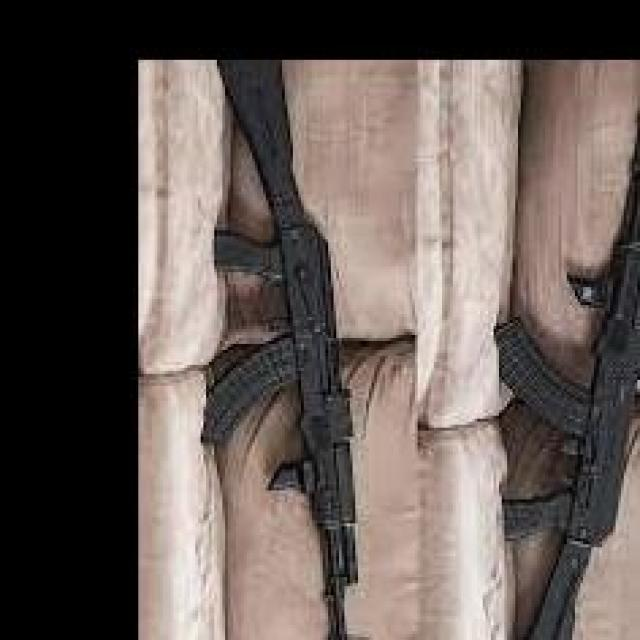weapon: (200, 61, 360, 640), (492, 109, 639, 640)
